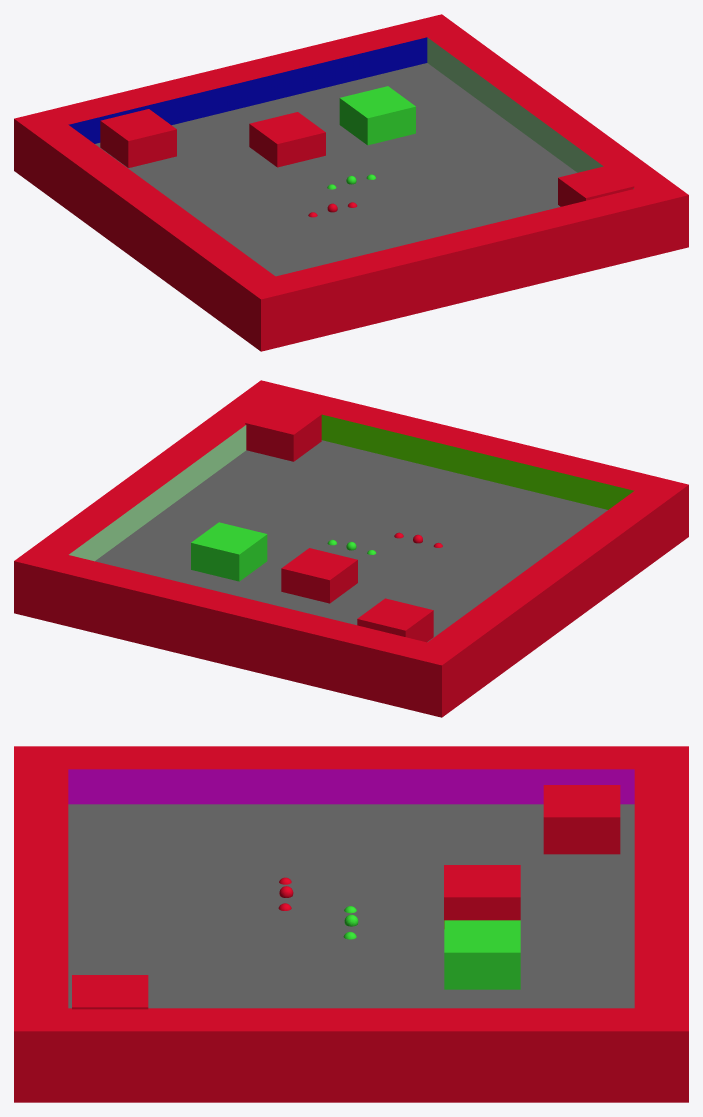
Rendered from collider_mouvement.glb.
The picture shows the model from 3 angles, top to bottom: view 1: azimuth 30°, elevation 25°; view 2: azimuth 150°, elevation 25°; view 3: azimuth 270°, elevation 25°; orthographic projection. The views are drawn at different scales.
Parts seen in each view (by area): view 1: plancher, Cube, Cube.003, Cube.002, Cube.001; view 2: plancher, Cube.003, Cube.001, Cube.002, Cube; view 3: plancher, Cube, Cube.003, Cube.002, Cube.001.
Boxes of the visible parts, left/top/right/bottom form: plancher: left=14, top=14, right=688, bottom=351; Cube: left=100, top=109, right=176, bottom=167; Cube.003: left=339, top=86, right=415, bottom=145; Cube.002: left=249, top=112, right=325, bottom=167; Cube.001: left=558, top=166, right=634, bottom=206; plancher: left=14, top=380, right=688, bottom=717; Cube.003: left=191, top=522, right=267, bottom=581; Cube.001: left=245, top=402, right=321, bottom=461; Cube.002: left=281, top=548, right=357, bottom=603; Cube: left=357, top=598, right=433, bottom=642; plancher: left=14, top=746, right=688, bottom=1102; Cube: left=543, top=785, right=620, bottom=854; Cube.003: left=444, top=920, right=520, bottom=989; Cube.002: left=444, top=865, right=520, bottom=928; Cube.001: left=72, top=975, right=148, bottom=1009.
Size of the model in its own units: 97.2 by 11.83 by 97.2.
